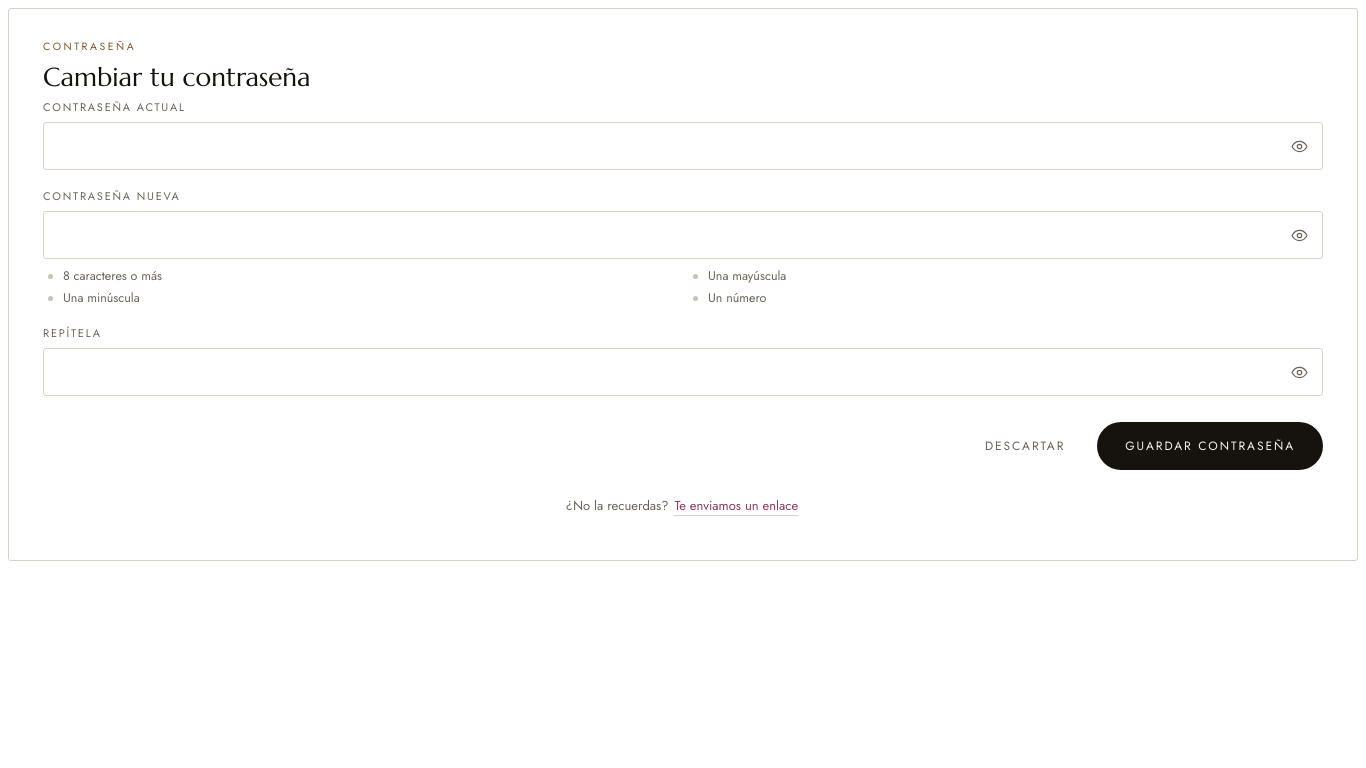
it: SeccionContrasena · con contraseña › «¿No la recuerdas?» manda el enlace al correo de la cuenta, sin salir
Click the button with test id "pedir-enlace".
click(736, 506)  # box [672,484,800,528]
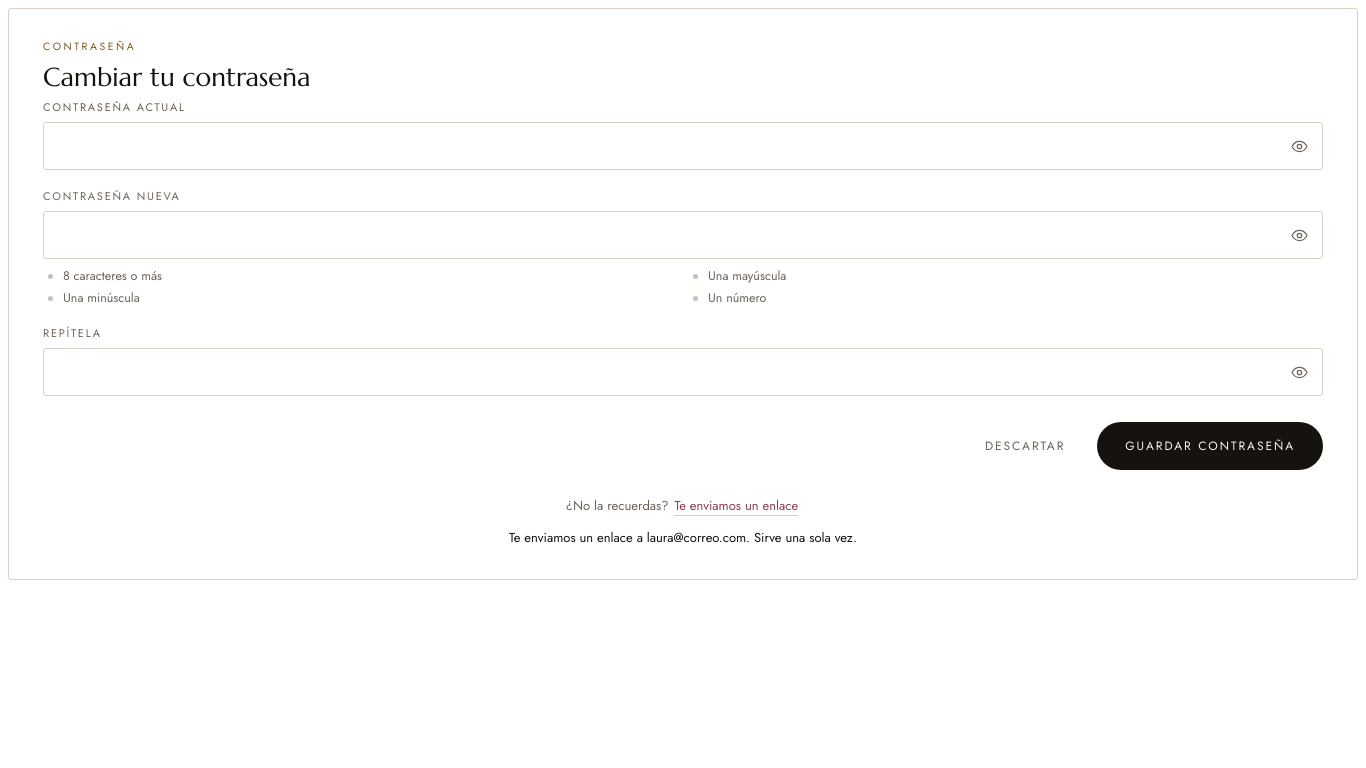
Result: the text with test id "enlace-estado" reads "Te enviamos un enlace a laura@correo.com. Sirve una sola vez." at [509,528,857,547]
